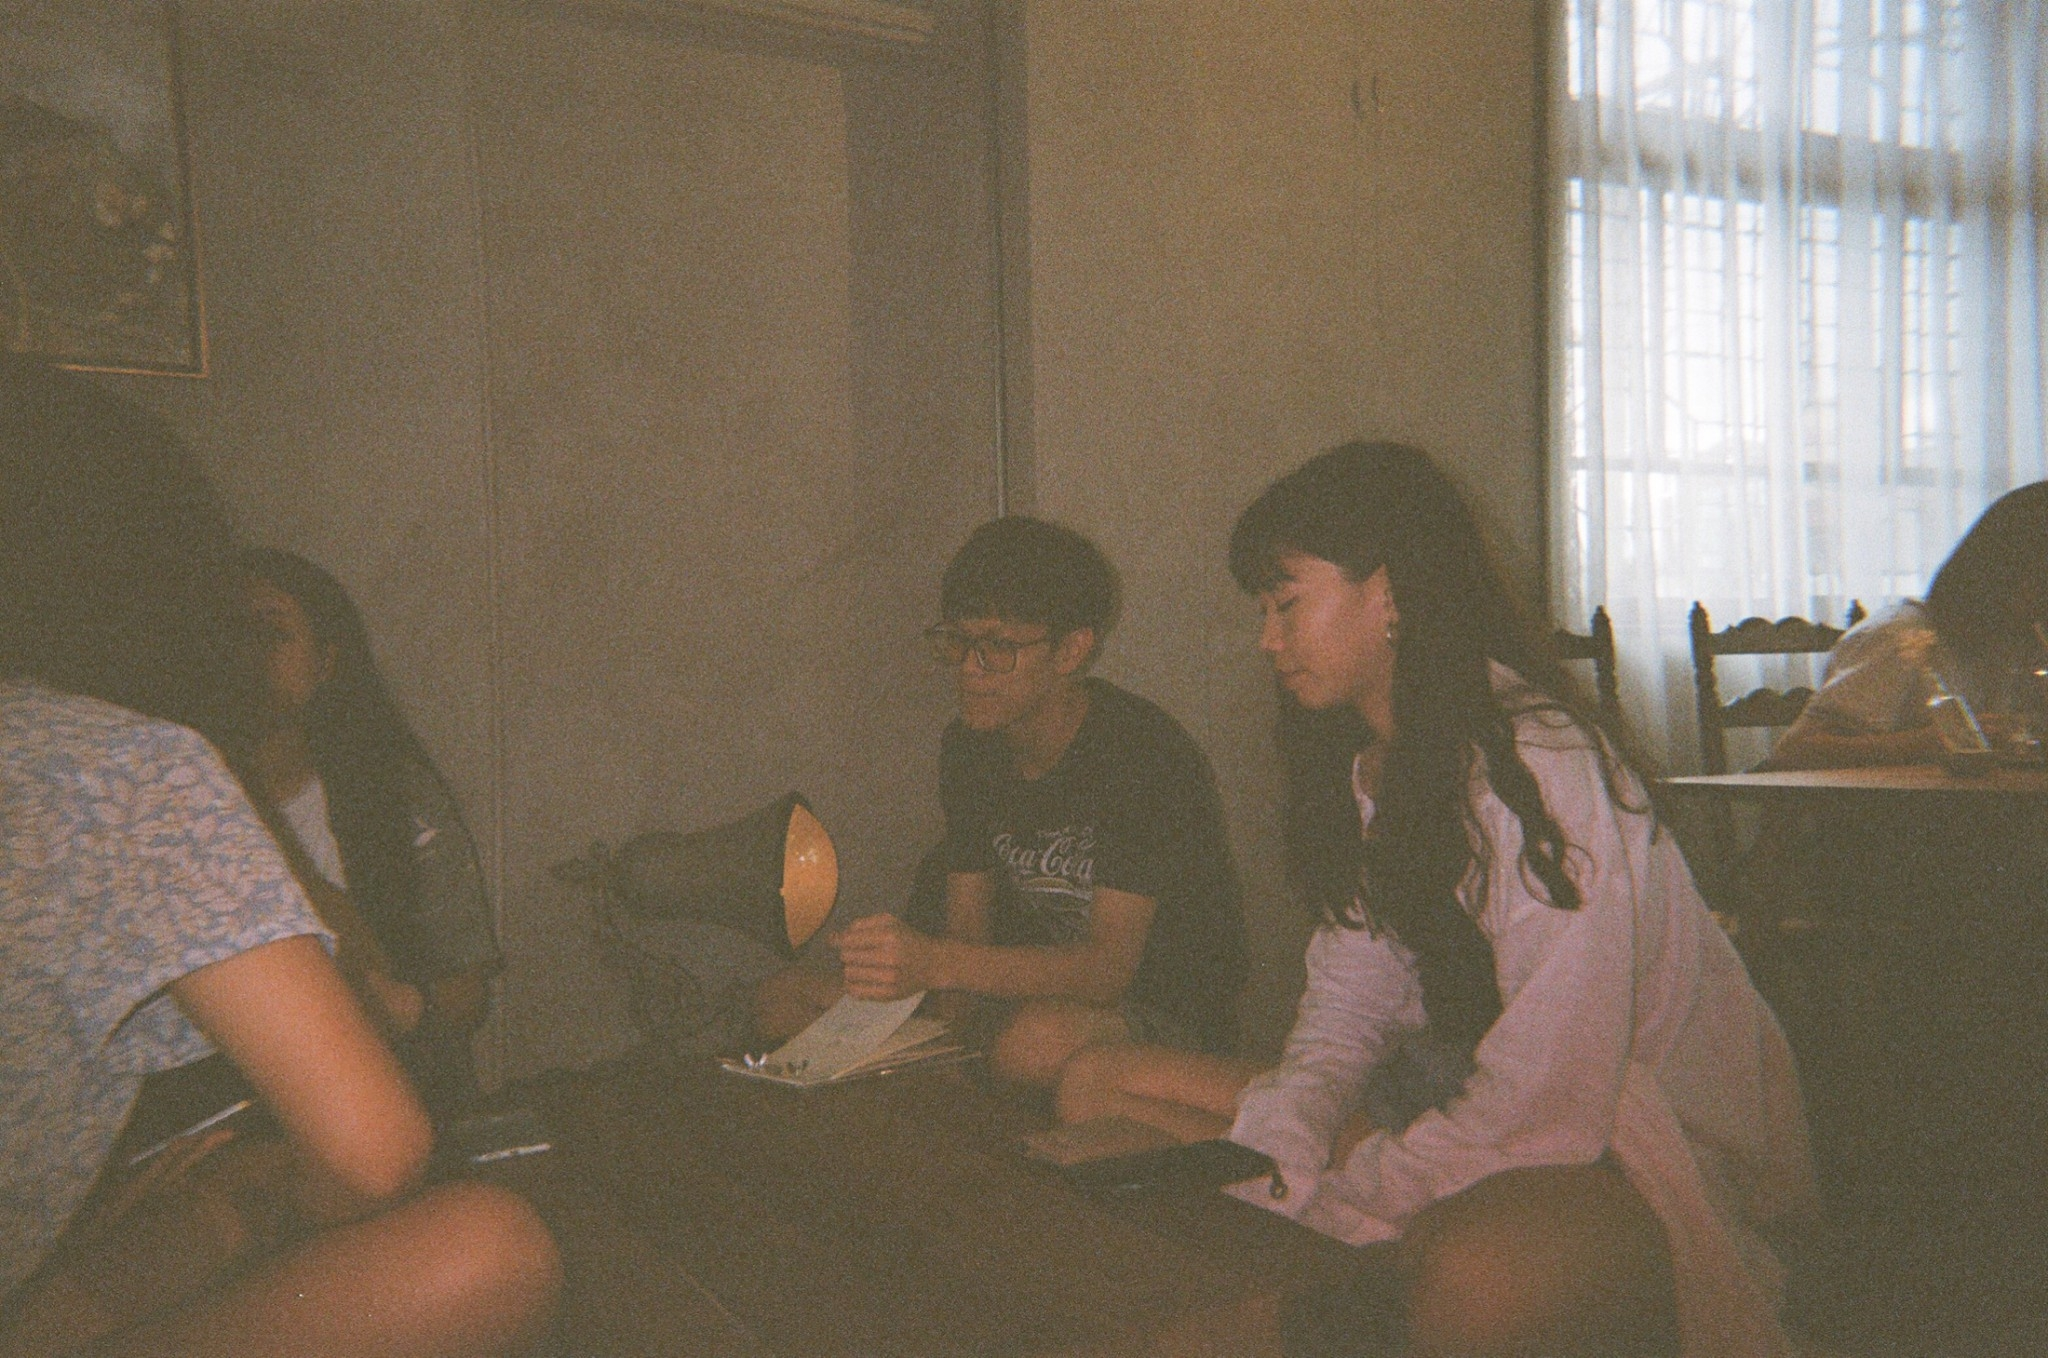people: (1231, 469, 1804, 1358), (10, 389, 354, 1358), (902, 516, 1240, 1107), (199, 539, 496, 1151), (1828, 489, 2048, 783)
